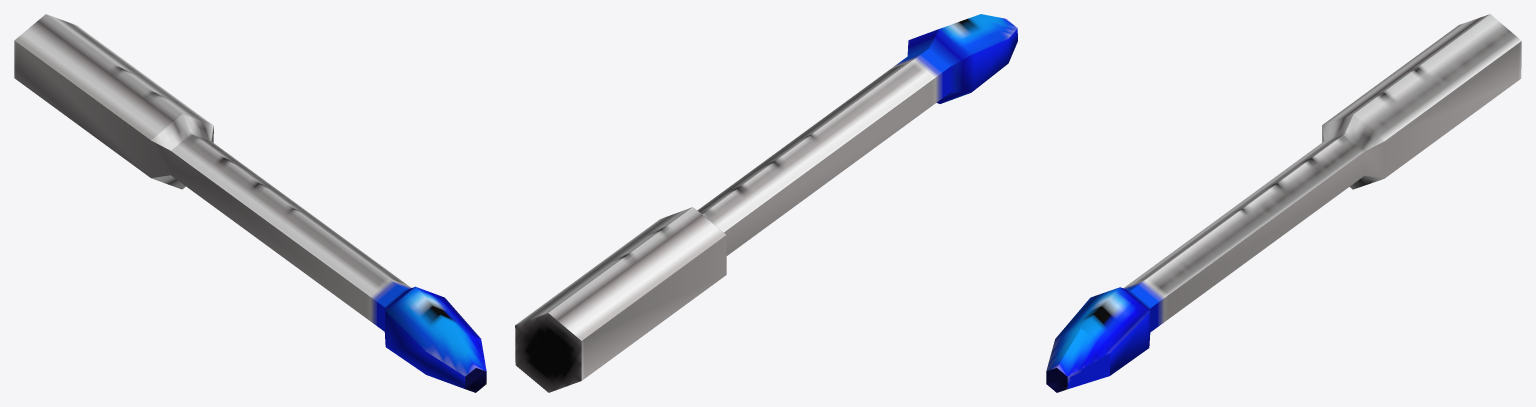
Rendered from flauta-1.obj.
3 views of the same model, side by side, from view 1: azimuth 30°, elevation 25°; view 2: azimuth 150°, elevation 25°; view 3: azimuth 330°, elevation 25° (orthographic). The views are drawn at different scales.
Visible parts, largest first — view 1: pCylinder3; view 2: pCylinder3; view 3: pCylinder3.
Part boxes in pixels (x1,y1,x2,y2): pCylinder3: (14,14,486,392); pCylinder3: (515,14,1017,392); pCylinder3: (1046,14,1521,392).
Size of the model in its own units: 0.4716 by 0.54 by 5.6.
Materials: 1 (1 with a texture image).
